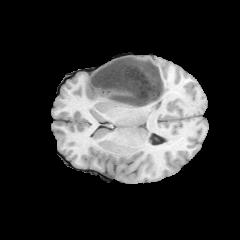glioma: (90, 55, 169, 109)
